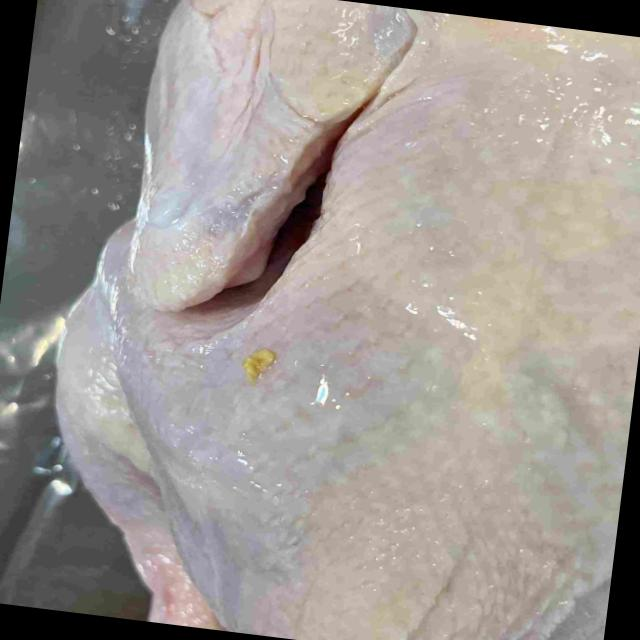back: (129, 71, 640, 640)
leg: (54, 278, 224, 631)
wing: (121, 0, 415, 320)
